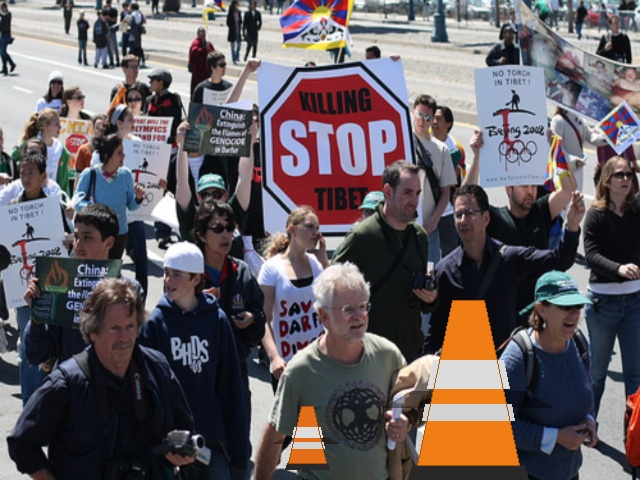traffic-cone: (407, 300, 529, 479), (285, 406, 329, 469)
